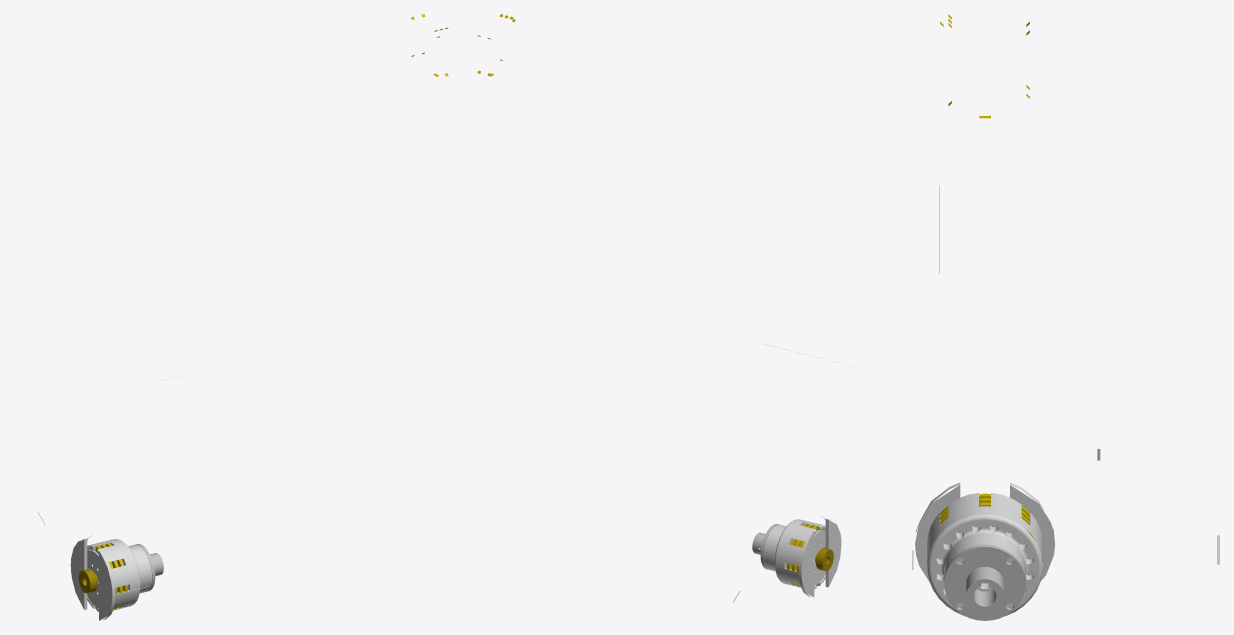
The model's file is 40hp_clutch.glb.
3 renders of one model, left to right at view 1: azimuth 30°, elevation 25°; view 2: azimuth 150°, elevation 25°; view 3: azimuth 270°, elevation 25°, orthographic. The views are drawn at different scales.
Parts seen in each view (by area): view 1: Shape_IndexedFaceSet6655, Shape_IndexedFaceSet7224; view 2: Shape_IndexedFaceSet6658, Shape_IndexedFaceSet7224; view 3: Shape_IndexedFaceSet7053, Shape_IndexedFaceSet7223, Shape_IndexedFaceSet6654, Shape_IndexedFaceSet6658, Shape_IndexedFaceSet6655, Shape_IndexedFaceSet6675, Shape_IndexedFaceSet6674, Shape_IndexedFaceSet7055, Shape_IndexedFaceSet6657, Shape_IndexedFaceSet6653.
Part boxes in pixels (x1,y1,x2,y2): Shape_IndexedFaceSet6655: [98, 541, 138, 610]; Shape_IndexedFaceSet7224: [70, 539, 112, 620]; Shape_IndexedFaceSet6658: [776, 521, 814, 587]; Shape_IndexedFaceSet7224: [801, 520, 841, 597]; Shape_IndexedFaceSet7053: [944, 547, 1025, 620]; Shape_IndexedFaceSet7223: [915, 485, 1054, 581]; Shape_IndexedFaceSet6654: [931, 520, 1038, 606]; Shape_IndexedFaceSet6658: [985, 493, 1043, 561]; Shape_IndexedFaceSet6655: [927, 493, 984, 560]; Shape_IndexedFaceSet6675: [927, 513, 984, 616]; Shape_IndexedFaceSet6674: [985, 513, 1042, 616]; Shape_IndexedFaceSet7055: [966, 579, 1003, 613]; Shape_IndexedFaceSet6657: [985, 533, 1025, 579]; Shape_IndexedFaceSet6653: [944, 533, 984, 576].
Bounding box in the file's own units: 0.8382 × 1.03 × 0.3348.
